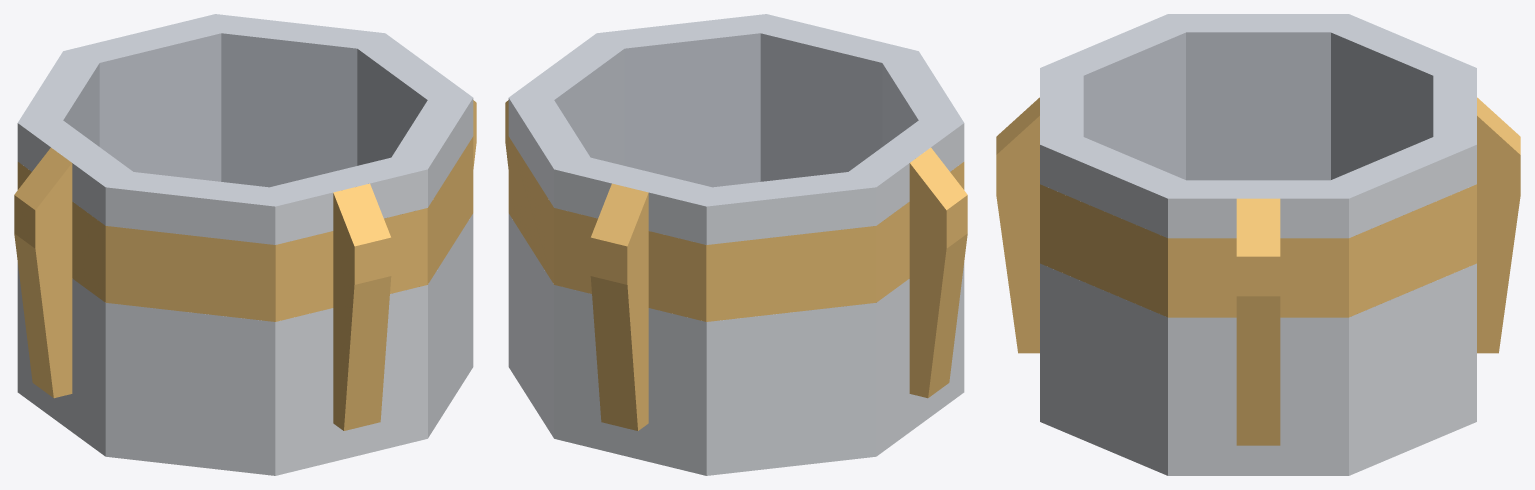
The model's file is rocket_finsB.glb.
The picture shows the model from 3 angles, left to right: view 1: azimuth 30°, elevation 25°; view 2: azimuth 150°, elevation 25°; view 3: azimuth 270°, elevation 25°; orthographic projection. The views are drawn at different scales.
Visible parts, largest first — view 1: rocket_finsB; view 2: rocket_finsB; view 3: rocket_finsB.
Part boxes in pixels (box(x1,y1,x2,y2)): rocket_finsB: box(14, 14, 476, 475); rocket_finsB: box(505, 14, 967, 475); rocket_finsB: box(996, 14, 1520, 475).
Size of the model in its own units: 1.2 by 0.7 by 1.2.
